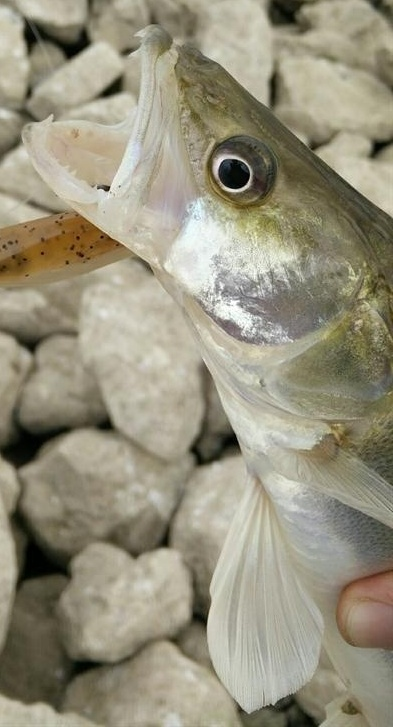Sander lucioperca: (20, 20, 393, 712)
